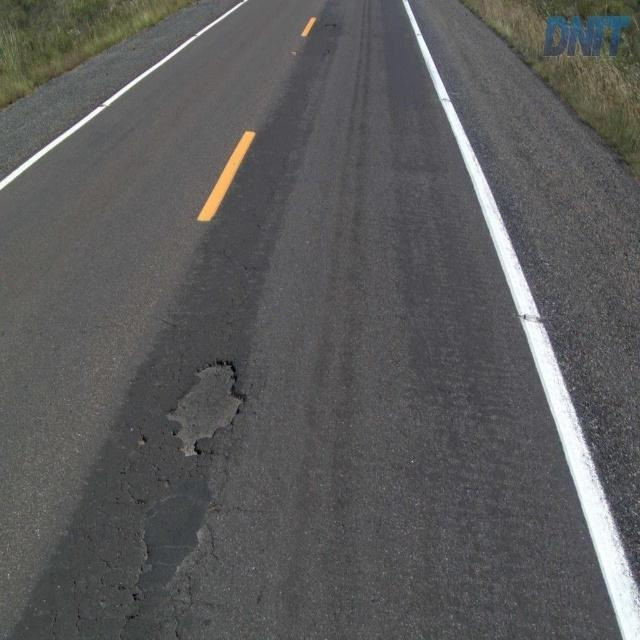pothole: (162, 351, 251, 458)
